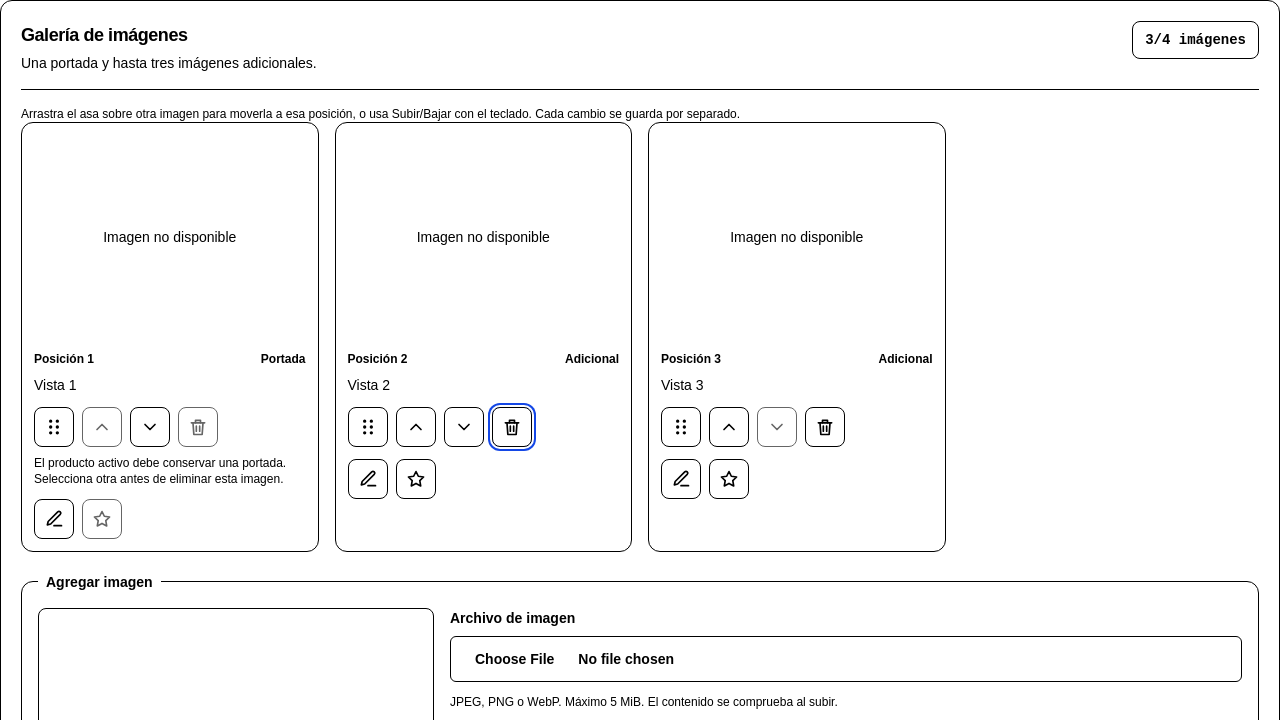
confirmed gallery removal › cancels using Cancelar without REST and restores focus
Click the button named "Eliminar Vista 2" at (512, 427), box [492,407,532,447]
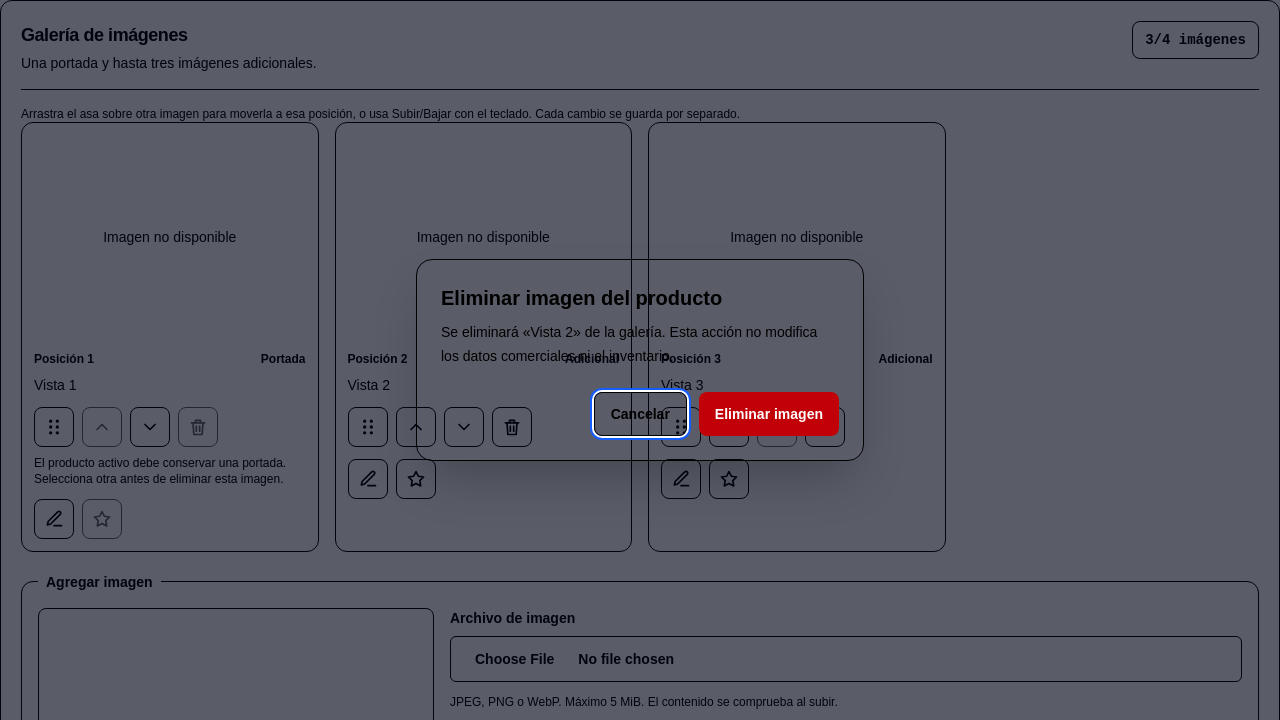
Result: the dialog "Eliminar imagen del producto" is shown at [416,259,864,461]
Click the button "Cancelar" at (640, 414), box [594,392,687,436]
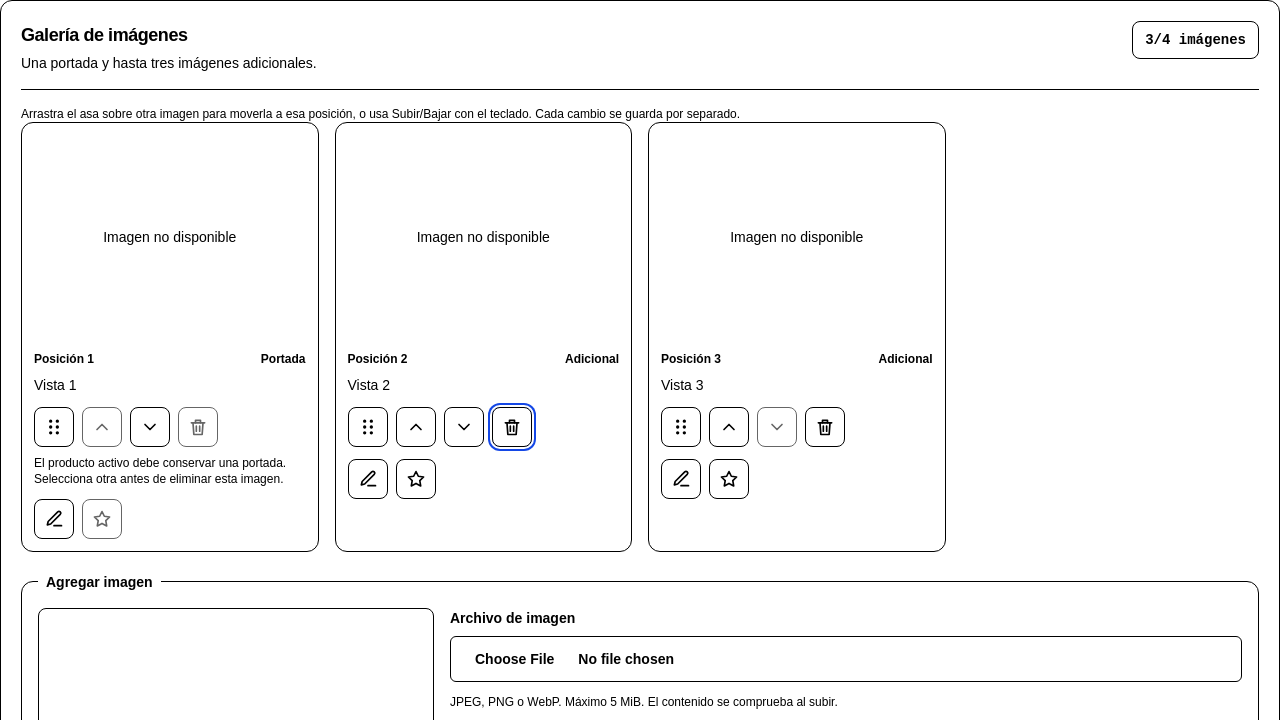
Expected: the text named "3 de 4 imágenes" is shown, [1132,21,1259,59]
Result: the dialog is gone
